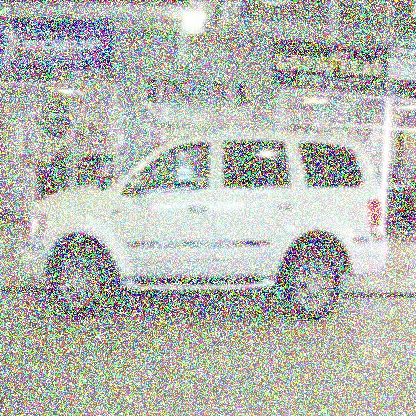Vehicle: (19, 120, 397, 332)
